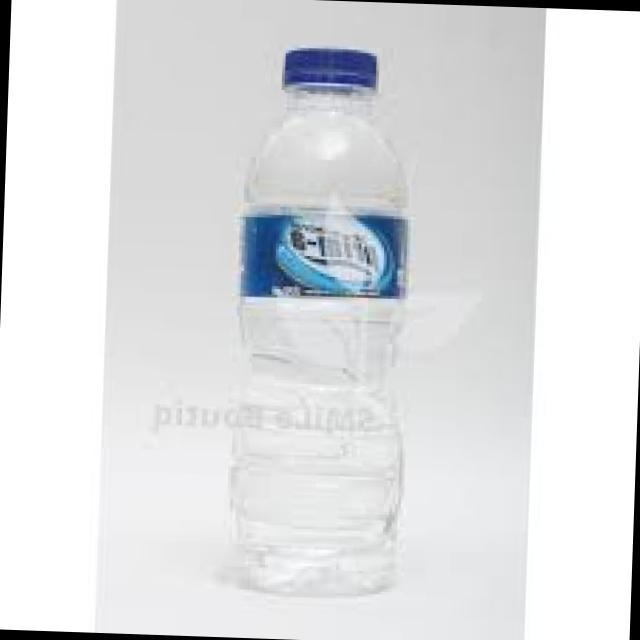good: (204, 31, 416, 612)
